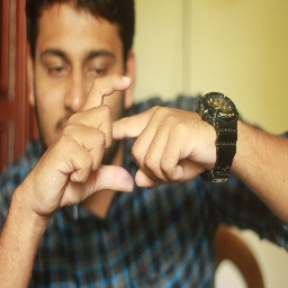E: (65, 74, 172, 204)
